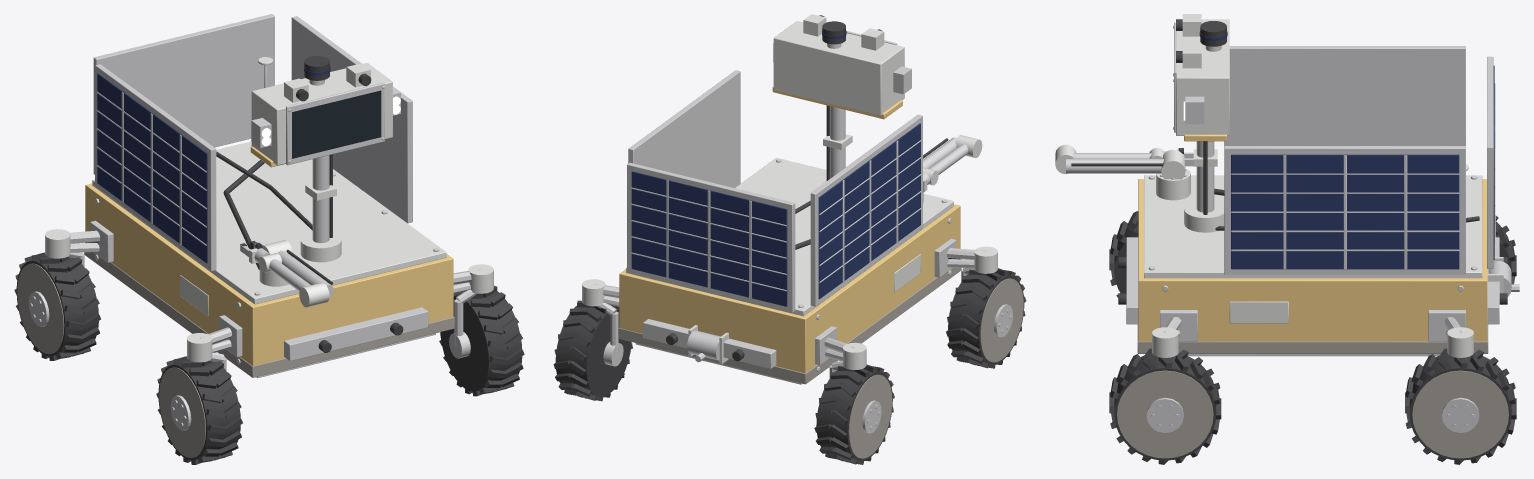
The model's file is pip.glb.
3 views of the same model, side by side, from view 1: azimuth 30°, elevation 25°; view 2: azimuth 150°, elevation 25°; view 3: azimuth 270°, elevation 25° (orthographic). The views are drawn at different scales.
Parts seen in each view (by area): view 1: chassis, panel_R, panel_B, wheel_FR, wheel_RR, panel_L, wheel_FL, head_tilt, face_screen, mast_pan, steer_FL, arm_shoulder (+6 smaller); view 2: chassis, panel_B, panel_R, head_tilt, panel_L, wheel_RR, wheel_FR, wheel_RL, mast_pan, steer_RL, winch, arm_elbow (+5 smaller); view 3: chassis, panel_L, panel_R, wheel_FL, wheel_RL, head_tilt, mast_pan, arm_shoulder, panel_B, wheel_FR, arm_elbow, arm_base (+8 smaller).
Boxes of the visible parts, <box> form: chassis: <box>84,57,454,378</box>; panel_R: <box>95,64,216,271</box>; panel_B: <box>93,14,274,174</box>; wheel_FR: <box>156,356,242,464</box>; wheel_RR: <box>14,252,100,360</box>; panel_L: <box>291,16,412,223</box>; wheel_FL: <box>439,285,524,396</box>; head_tilt: <box>250,63,392,167</box>; face_screen: <box>292,90,381,158</box>; mast_pan: <box>300,154,341,262</box>; steer_FL: <box>449,264,493,358</box>; arm_shoulder: <box>262,240,333,296</box>; chassis: <box>618,158,961,384</box>; panel_B: <box>627,162,795,312</box>; panel_R: <box>810,114,922,306</box>; head_tilt: <box>772,21,904,119</box>; panel_L: <box>628,70,740,187</box>; wheel_RR: <box>814,364,894,464</box>; wheel_FR: <box>946,268,1026,368</box>; wheel_RL: <box>553,300,632,401</box>; mast_pan: <box>819,105,852,186</box>; steer_RL: <box>582,279,623,366</box>; winch: <box>687,325,728,364</box>; arm_elbow: <box>929,135,982,174</box>; chassis: <box>1118,164,1507,356</box>; panel_L: <box>1224,146,1465,274</box>; panel_R: <box>1224,46,1465,145</box>; wheel_FL: <box>1109,348,1221,464</box>; wheel_RL: <box>1405,348,1516,464</box>; head_tilt: <box>1173,19,1229,141</box>; mast_pan: <box>1184,141,1224,232</box>; arm_shoulder: <box>1066,149,1185,179</box>; panel_B: <box>1487,56,1495,268</box>; wheel_FR: <box>1109,211,1138,297</box>; arm_elbow: <box>1055,144,1151,174</box>; arm_base: <box>1156,168,1190,200</box>.
Size of the model in its own units: 1.45 by 1.47 by 1.73.
